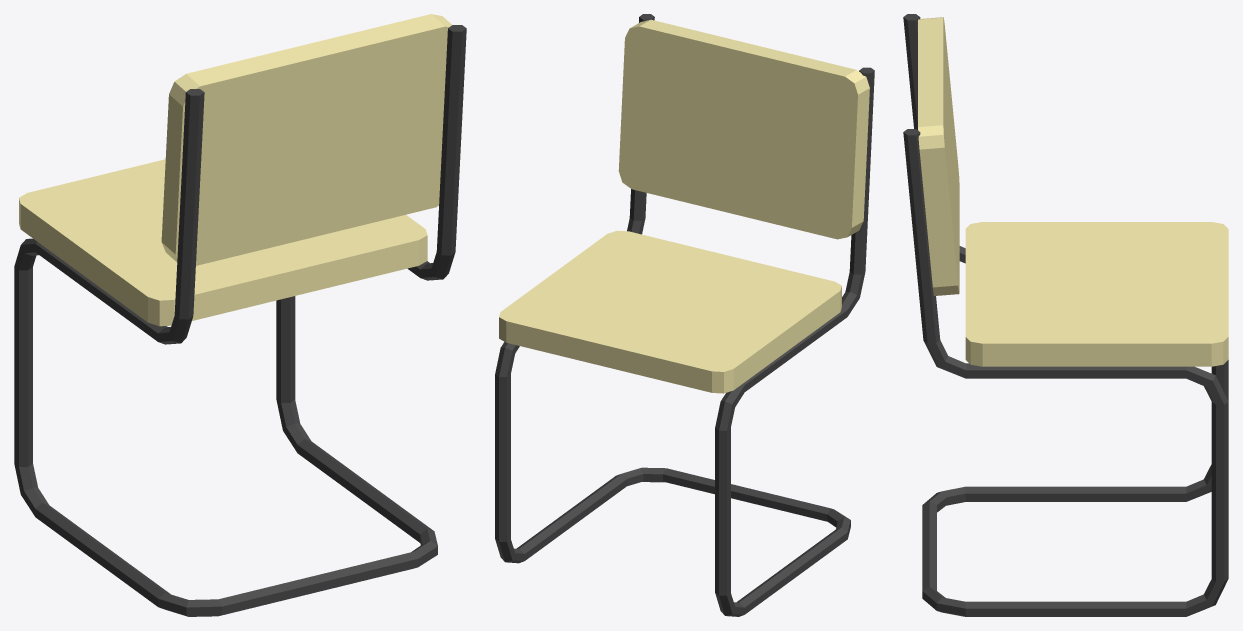
Rendered from Chair.fbx.
3 renders of one model, left to right at view 1: azimuth 30°, elevation 25°; view 2: azimuth 150°, elevation 25°; view 3: azimuth 270°, elevation 25°, orthographic. The views are drawn at different scales.
Visible parts, largest first — view 1: Chair; view 2: Chair; view 3: Chair.
Part boxes in pixels (x1,y1,x2,y2): Chair: (14,14,466,616); Chair: (495,14,874,616); Chair: (903,14,1228,616).
Bounding box in the file's own units: 43.18 × 80.65 × 48.72.
